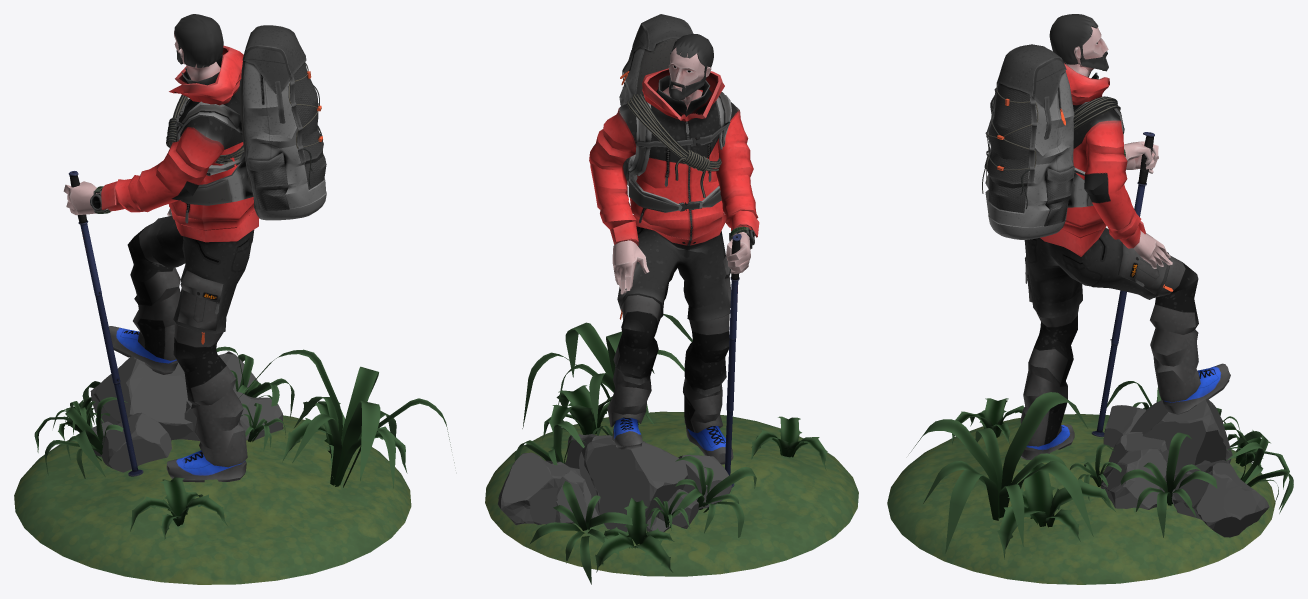
The model's file is trekking.glb.
3 views of the same model, side by side, from view 1: azimuth 30°, elevation 25°; view 2: azimuth 150°, elevation 25°; view 3: azimuth 270°, elevation 25° (orthographic). The views are drawn at different scales.
Visible parts, largest first — view 1: Circle, BaseMeshBKP__0, Cube, Plane.014, Cube.002, Plane, BaseMeshBKP__0.005, Cube.001, Cylinder, BaseMeshBKP__0.004, Plane.011, Plane.003 (+5 smaller); view 2: BaseMeshBKP__0, Circle, Cube.002, Cube.007, Cube, Plane.014, Plane, Plane.016, Plane.012, Plane.003, BaseMeshBKP__0.002, BaseMeshBKP__0.005 (+12 smaller); view 3: Circle, BaseMeshBKP__0, Cube, Plane.014, Cube.007, Cube.002, Cube.008, Plane.013, Plane.009, BaseMeshBKP__0.005, Cylinder, BaseMeshBKP__0.004 (+10 smaller).
Boxes of the visible parts, x1=… form: Circle: x1=14, y1=415, x2=411, y2=584; BaseMeshBKP__0: x1=101, y1=45, x2=259, y2=467; Cube: x1=240, y1=25, x2=326, y2=220; Plane.014: x1=239, y1=349, x2=454, y2=488; Cube.002: x1=90, y1=356, x2=193, y2=440; Plane: x1=176, y1=99, x2=253, y2=205; BaseMeshBKP__0.005: x1=109, y1=326, x2=246, y2=482; Cube.001: x1=101, y1=412, x2=171, y2=472; Cylinder: x1=68, y1=171, x2=143, y2=476; BaseMeshBKP__0.004: x1=174, y1=14, x2=223, y2=67; Plane.011: x1=130, y1=477, x2=227, y2=539; Plane.003: x1=44, y1=397, x2=127, y2=478; BaseMeshBKP__0: x1=589, y1=68, x2=759, y2=432; Circle: x1=485, y1=411, x2=858, y2=576; Cube.002: x1=579, y1=437, x2=688, y2=532; Cube.007: x1=497, y1=452, x2=598, y2=525; Cube: x1=619, y1=14, x2=693, y2=185; Plane.014: x1=522, y1=314, x2=692, y2=428; Plane: x1=628, y1=92, x2=731, y2=212; Plane.016: x1=530, y1=481, x2=632, y2=584; Plane.012: x1=595, y1=498, x2=674, y2=572; Plane.003: x1=668, y1=456, x2=756, y2=537; BaseMeshBKP__0.002: x1=612, y1=232, x2=750, y2=294; BaseMeshBKP__0.005: x1=612, y1=417, x2=733, y2=464; Circle: x1=887, y1=414, x2=1275, y2=584; BaseMeshBKP__0: x1=1020, y1=63, x2=1200, y2=446; Cube: x1=984, y1=44, x2=1074, y2=239; Plane.014: x1=909, y1=392, x2=1093, y2=553; Cube.007: x1=1171, y1=460, x2=1269, y2=537; Cube.002: x1=1130, y1=399, x2=1232, y2=472; Cube.008: x1=1100, y1=432, x2=1168, y2=509; Plane.013: x1=997, y1=463, x2=1116, y2=559; Plane.009: x1=1120, y1=432, x2=1217, y2=537; BaseMeshBKP__0.005: x1=1020, y1=363, x2=1230, y2=459; Cylinder: x1=1091, y1=132, x2=1154, y2=437; BaseMeshBKP__0.004: x1=1049, y1=14, x2=1098, y2=64.
Bounding box in the file's own units: 1.41 × 1.98 × 1.47.
9 materials, 8 textured.
